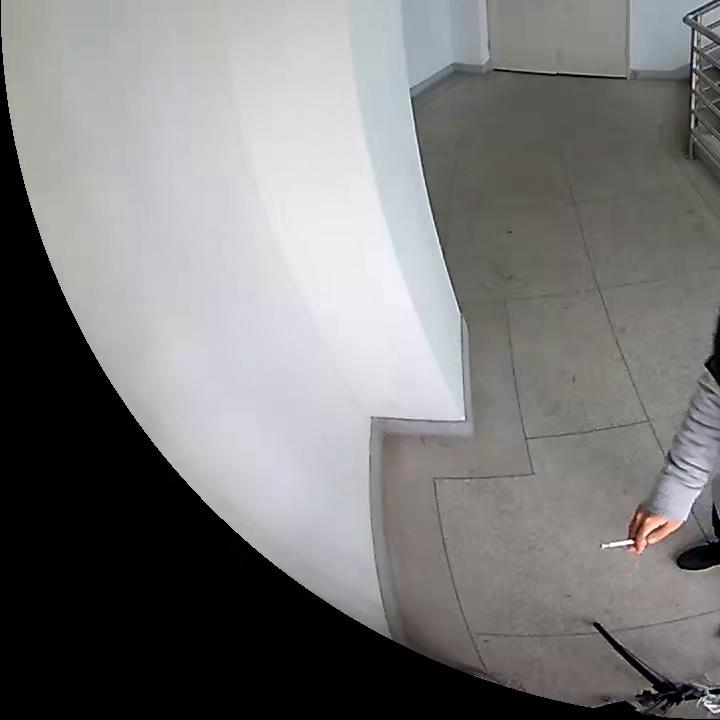handsmoke: (596, 505, 687, 555)
